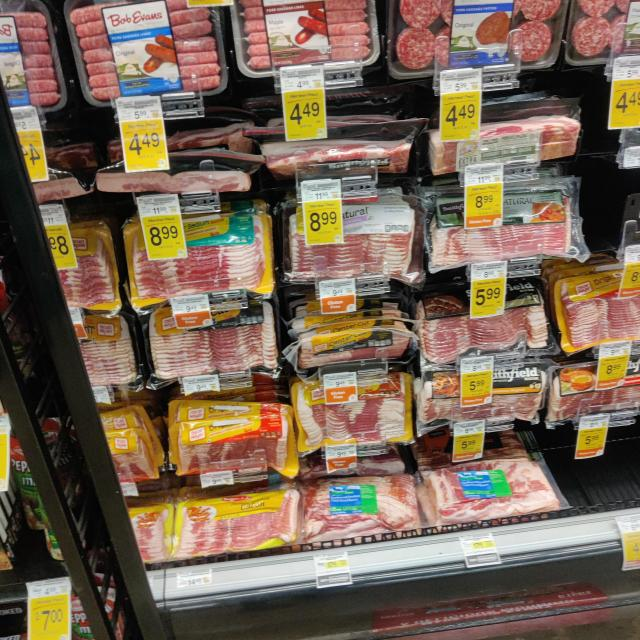Meat: (378, 0, 564, 99), (418, 177, 594, 279), (63, 0, 229, 106), (116, 212, 282, 300), (227, 0, 384, 92), (270, 196, 416, 287), (408, 280, 567, 360), (157, 400, 300, 484), (419, 102, 587, 172), (409, 452, 572, 523), (404, 361, 557, 436), (133, 306, 288, 375), (158, 487, 304, 558), (288, 369, 418, 448), (242, 126, 429, 180), (283, 302, 419, 369), (308, 464, 420, 543), (89, 150, 264, 199)
